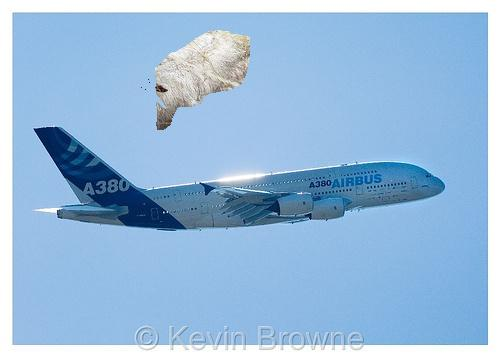tampered: (142, 31, 250, 130)
